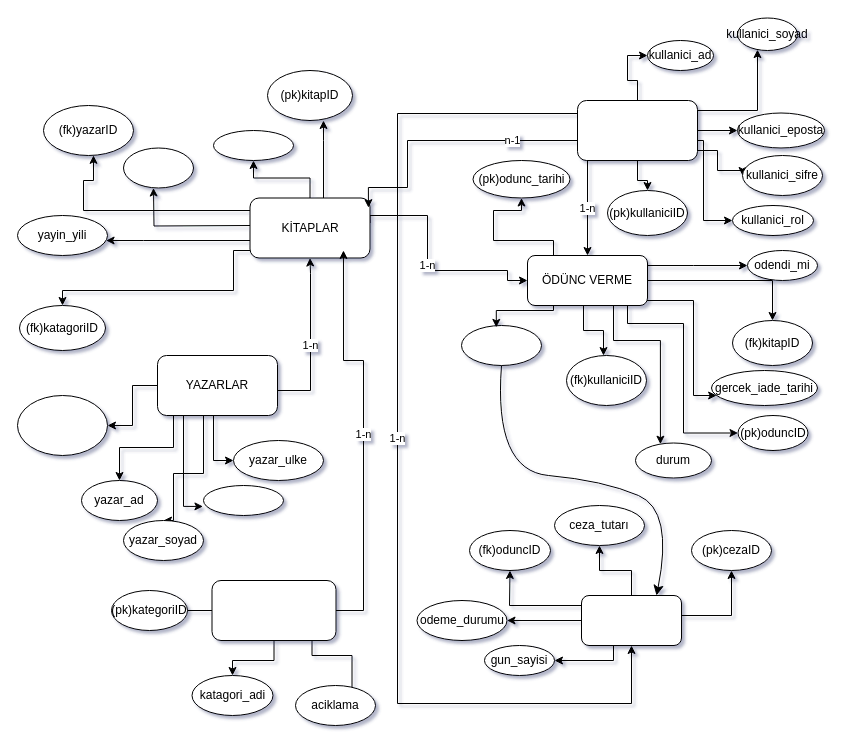
This 848x749 diagram has some shape labels left out. Each missing label, with the box of its shape:
(pk)yazarID: (16, 394, 108, 456)
baslik: (212, 130, 294, 160)
CEZA: (580, 594, 682, 646)
dogum_tarihi: (202, 484, 284, 516)
iade_tarihi: (460, 324, 542, 366)
KATEGORİLER: (211, 580, 336, 640)
KULLANICIGİRİS: (576, 100, 698, 160)
stok_adedi: (122, 147, 194, 188)
